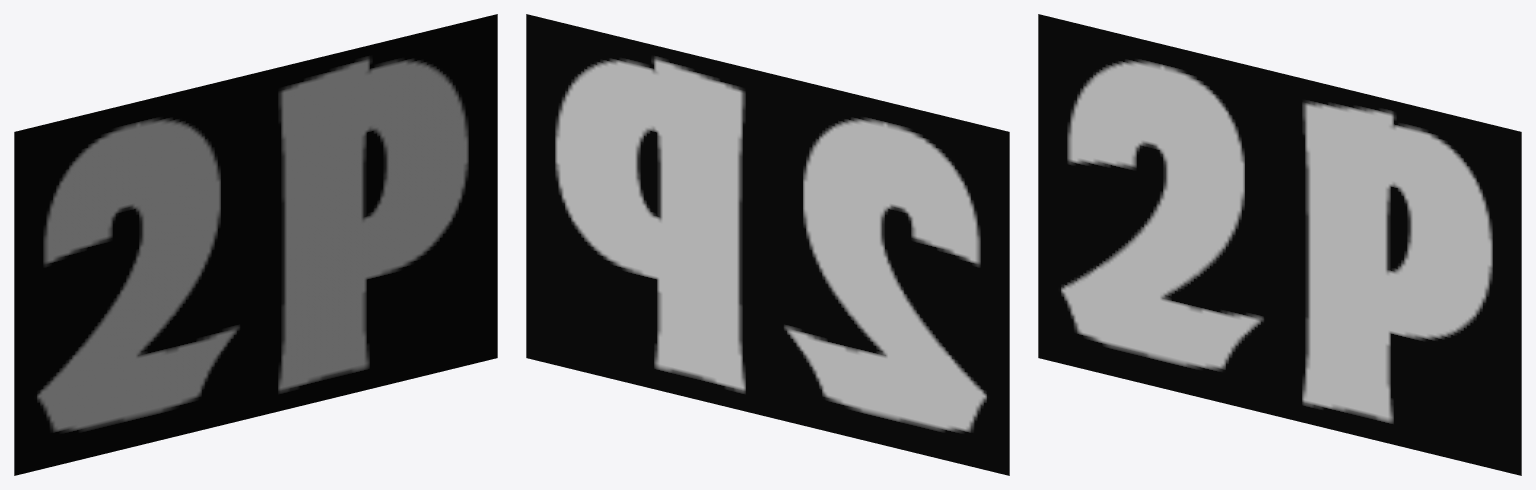
3 views of the same model, side by side, from view 1: azimuth 30°, elevation 25°; view 2: azimuth 150°, elevation 25°; view 3: azimuth 330°, elevation 25° (orthographic).
Parts seen in each view (by area): view 1: Joint_0_Object_0; view 2: Joint_0_Object_0; view 3: Joint_0_Object_0.
Boxes of the visible parts, x1,y1,x2,y2 form: Joint_0_Object_0: (14,14,497,475); Joint_0_Object_0: (526,14,1009,475); Joint_0_Object_0: (1038,14,1521,475).
Size of the model in its own units: 1061 by 722 by 0.
Materials: 1 (1 with a texture image).
